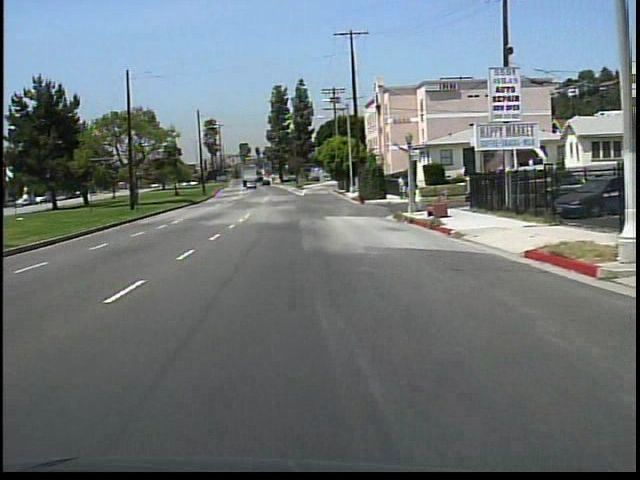person: (409, 180, 423, 215), (394, 174, 407, 199)
